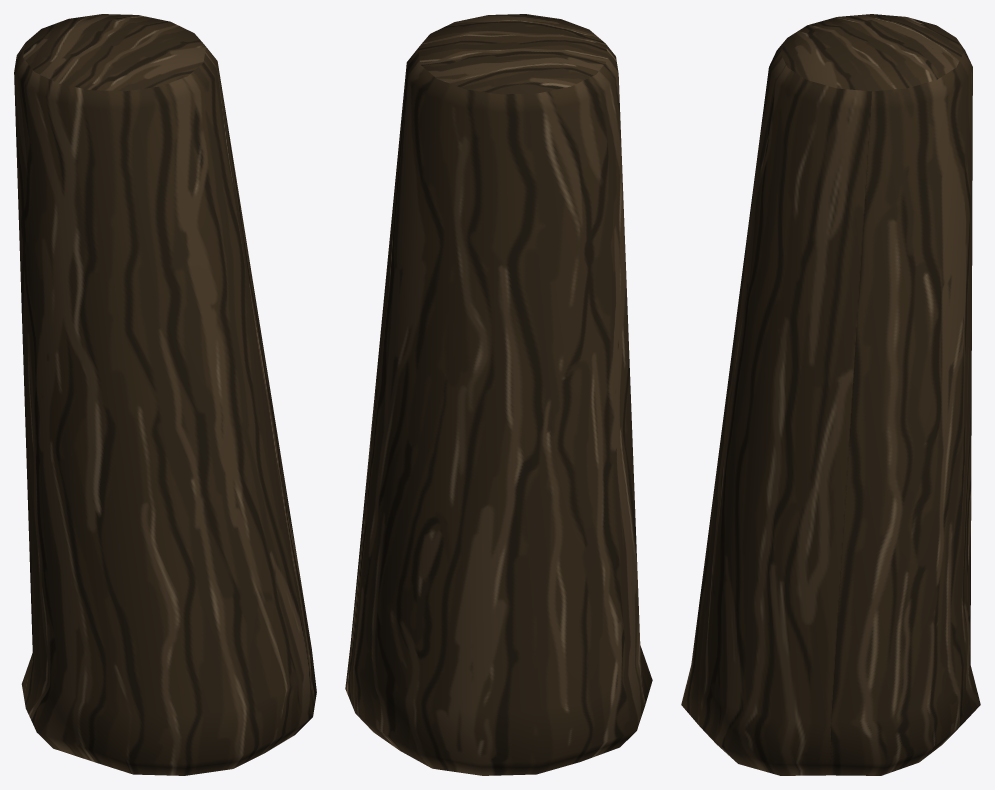
File: SpruceTree1_Log1_v1.fbx
The picture shows the model from 3 angles, left to right: view 1: azimuth 30°, elevation 25°; view 2: azimuth 150°, elevation 25°; view 3: azimuth 270°, elevation 25°; orthographic projection. The views are drawn at different scales.
Parts seen in each view (by area): view 1: ChoppedOfTree.002; view 2: ChoppedOfTree.002; view 3: ChoppedOfTree.002.
Boxes of the visible parts, left/top/right/bottom form: ChoppedOfTree.002: left=14, top=14, right=316, bottom=775; ChoppedOfTree.002: left=345, top=14, right=652, bottom=775; ChoppedOfTree.002: left=681, top=14, right=980, bottom=775.
Size of the model in its own units: 148 by 369 by 151.
